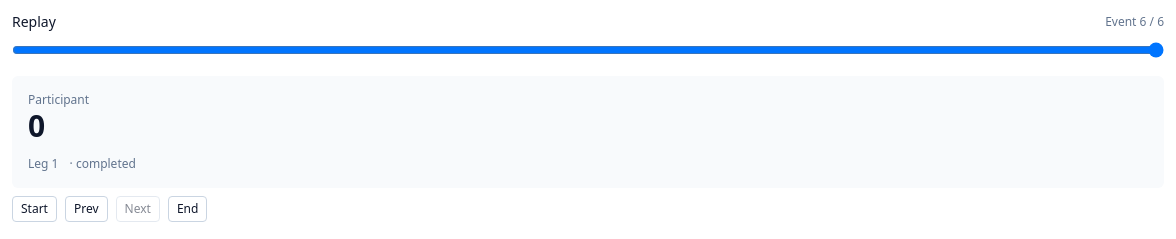
ReplayScrubber › start button resets to position 0
This screenshot has width=1176, height=239.
Click the button with test id "replay-start".
click(34, 209)  # box [12,196,57,222]
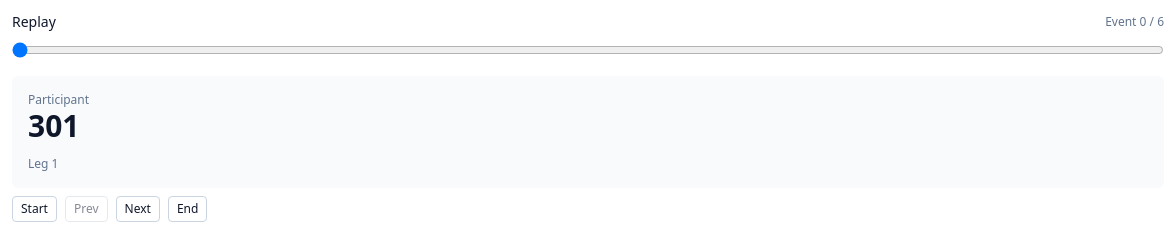
Expected: the text with test id "replay-position" reads "Event 0 / 6", [1105,14,1164,30]
